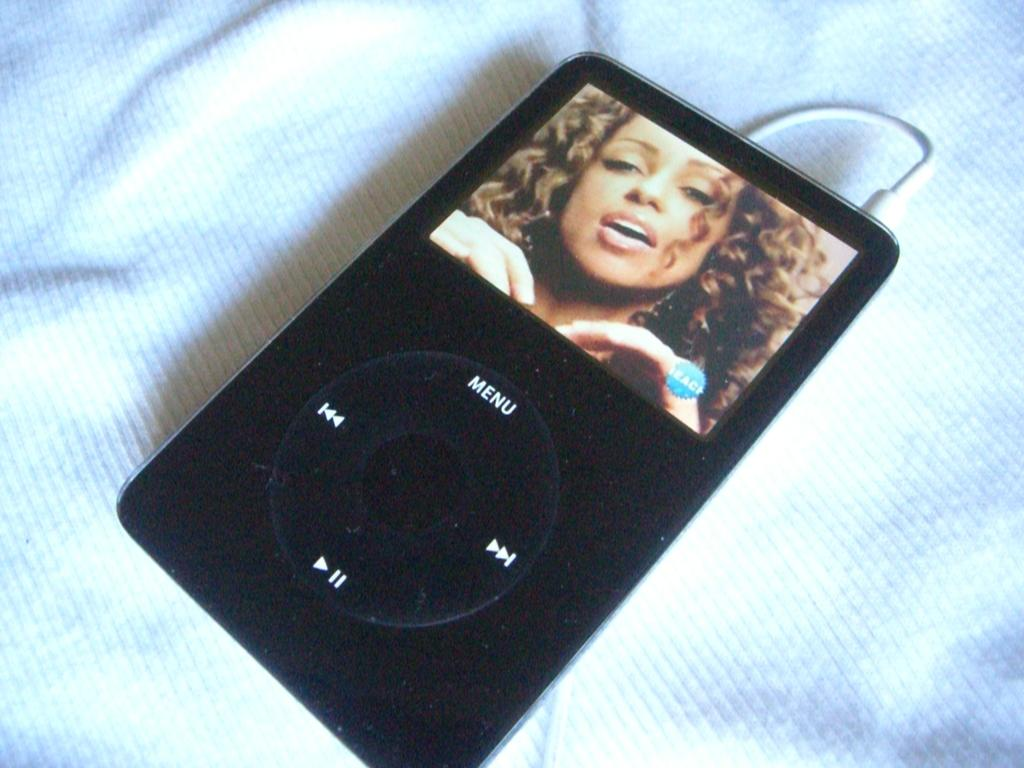Sem Máscara: (556, 109, 740, 289)
